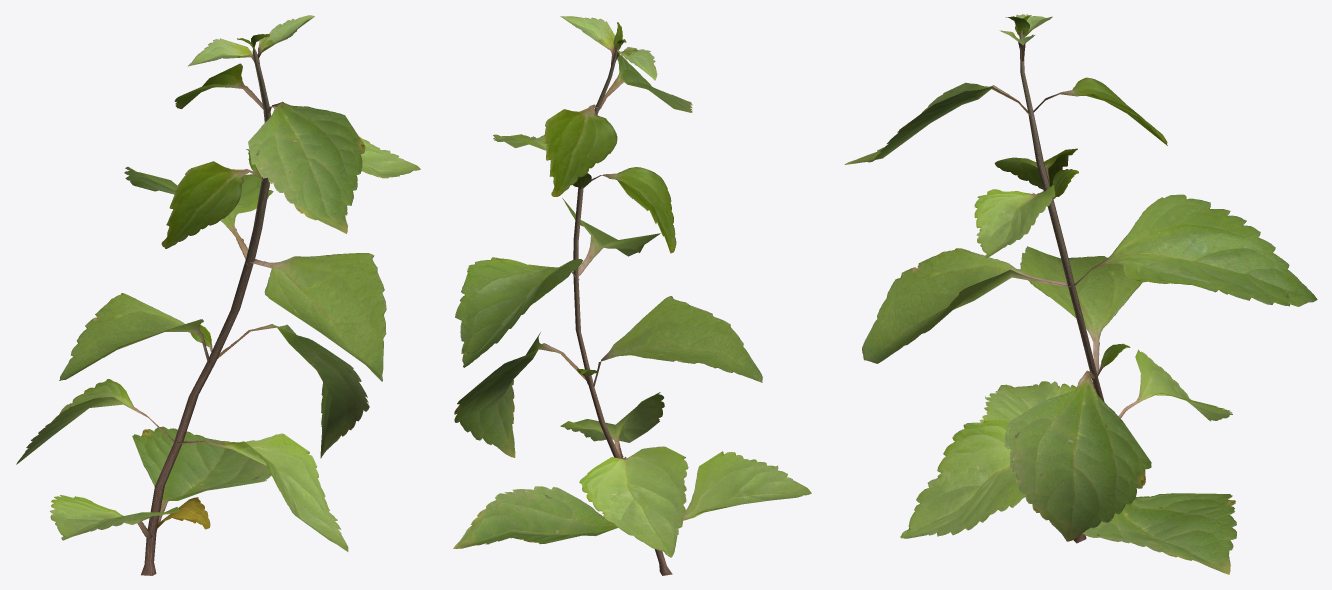
File: shrub_b.glb
The picture shows the model from 3 angles, left to right: view 1: azimuth 30°, elevation 25°; view 2: azimuth 150°, elevation 25°; view 3: azimuth 270°, elevation 25°; orthographic projection. The views are drawn at different scales.
Parts seen in each view (by area): view 1: Forest_shrub_b; view 2: Forest_shrub_b; view 3: Forest_shrub_b.
Boxes of the visible parts, x1,y1,x2,y2 form: Forest_shrub_b: [16, 15, 420, 575]; Forest_shrub_b: [453, 16, 811, 575]; Forest_shrub_b: [844, 14, 1317, 574].
Bounding box in the file's own units: 0.1354 × 0.2006 × 0.1523.
1 material, 1 textured.
